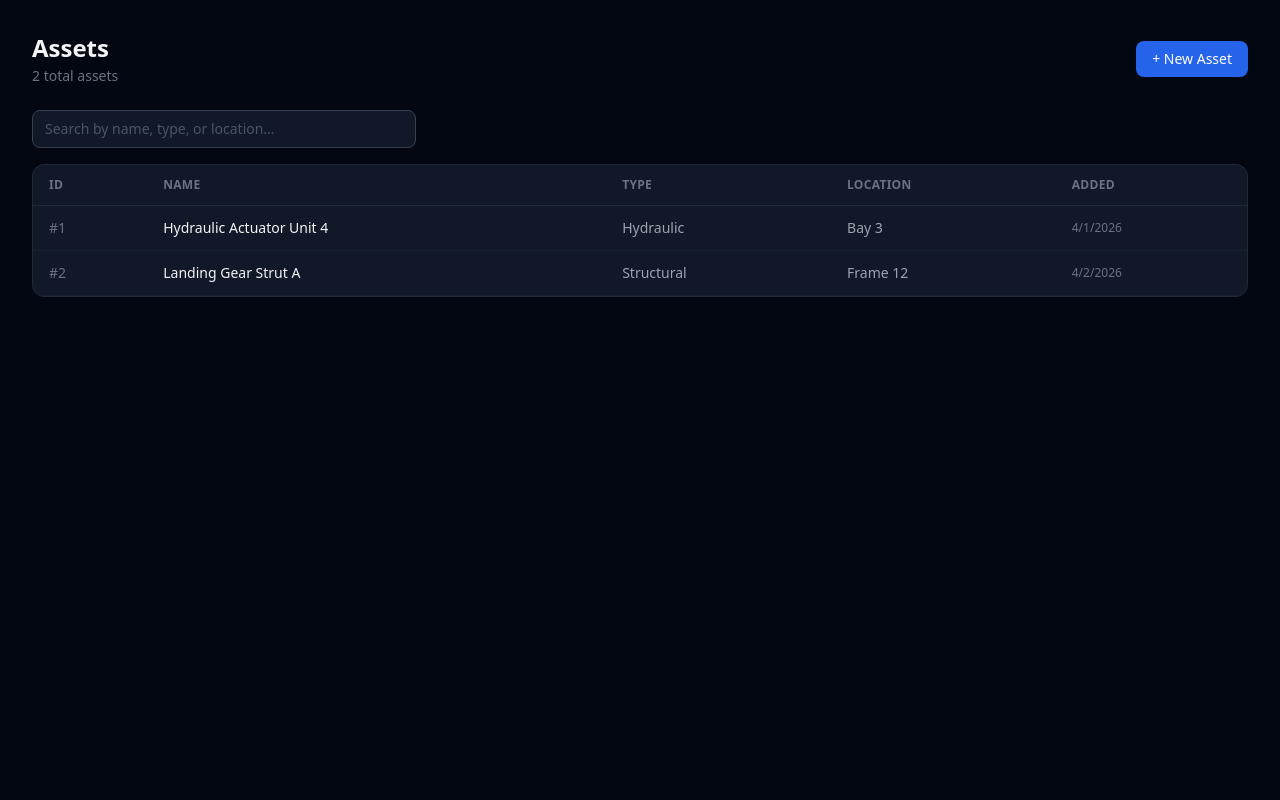
Test: Assets — slide-over › shows confirmation prompt when delete is requested
Step 1. Click the text "Hydraulic Actuator Unit 4" → (246, 228), box [147, 206, 606, 250]
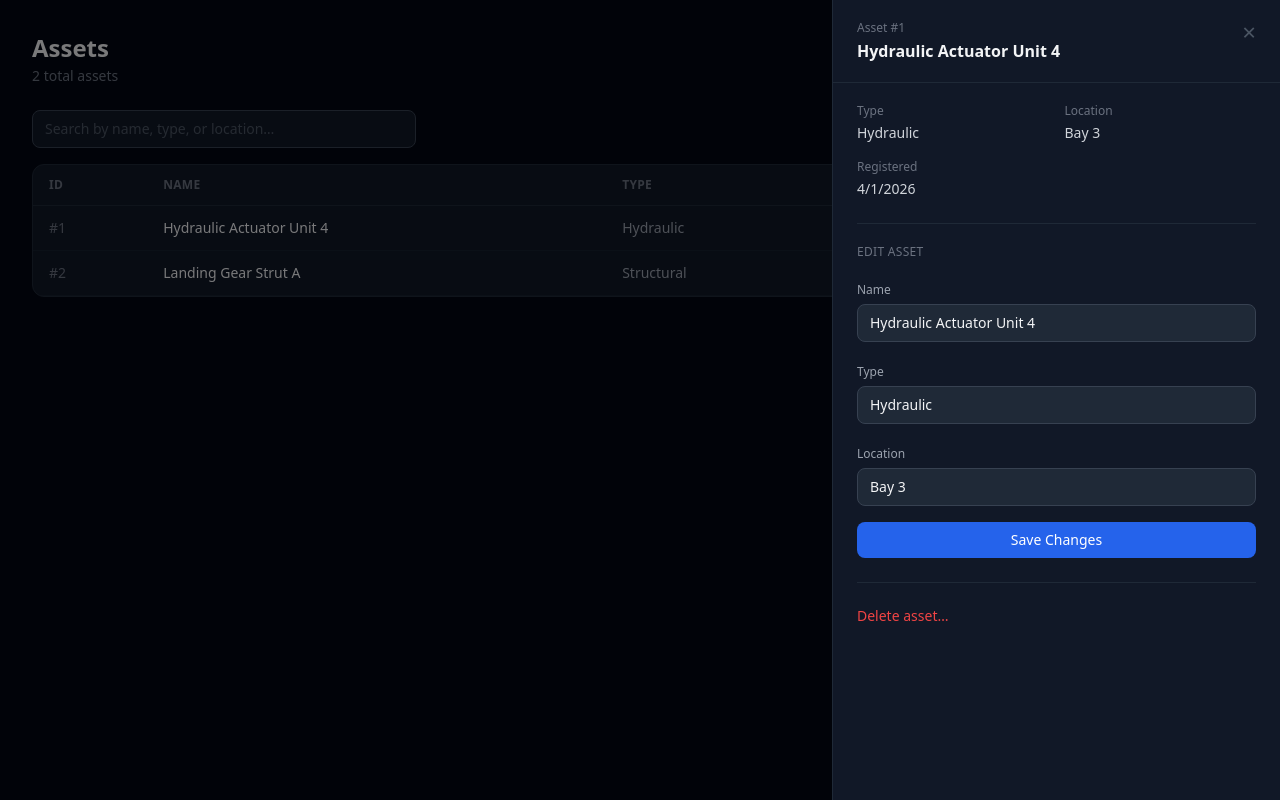
Step 2. Click the button "Delete asset…" → (903, 616), box [857, 606, 948, 626]
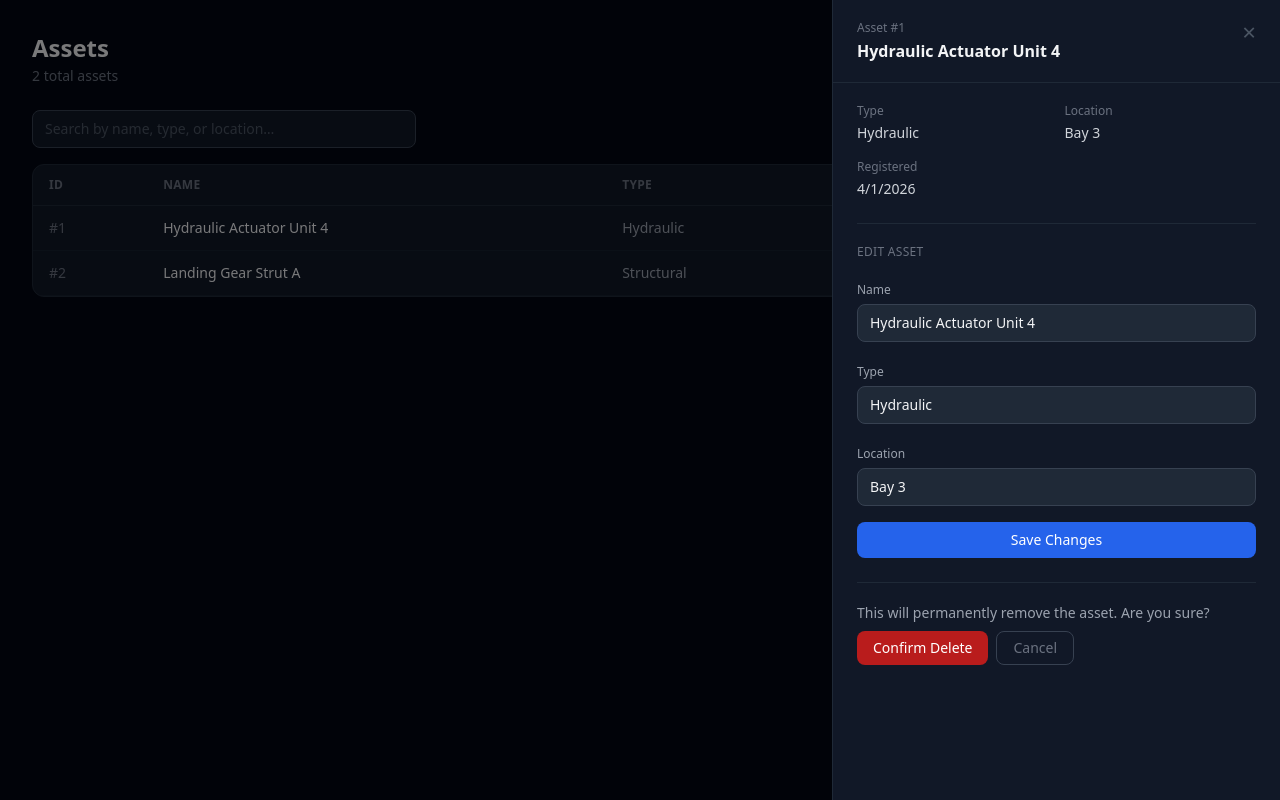
expect the button "Confirm Delete" is shown: met, box [857, 631, 988, 665]
expect the button "Cancel" is shown: met, box [996, 631, 1074, 665]
